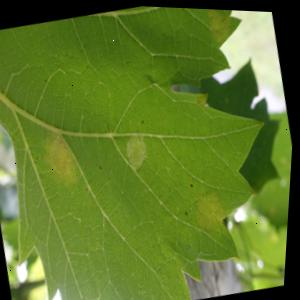Folha: (0, 0, 300, 300)
Fungo: (36, 124, 85, 194), (188, 181, 233, 240), (121, 131, 152, 172), (204, 7, 235, 43)
